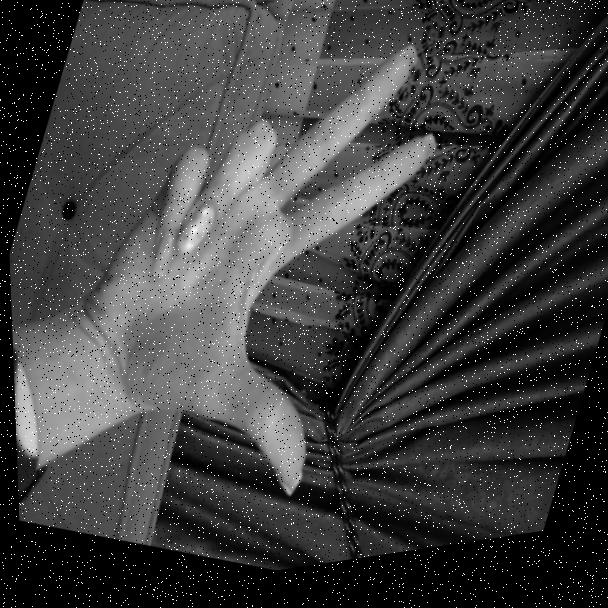three: (30, 0, 480, 557)
